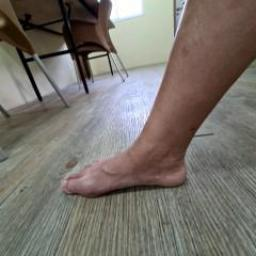Medial View -Right Foot-: (37, 99, 218, 208)
